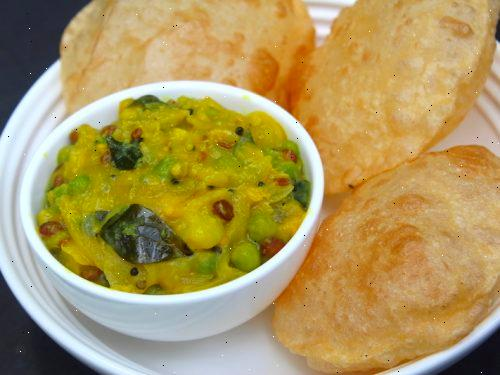puri: (324, 0, 500, 358)
